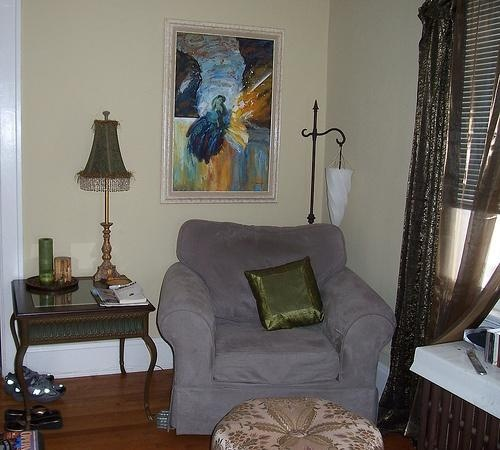chair: (157, 220, 398, 436)
